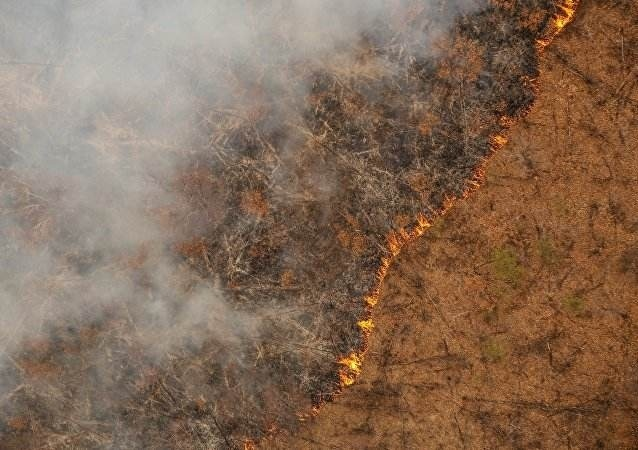fire: (287, 15, 637, 407)
